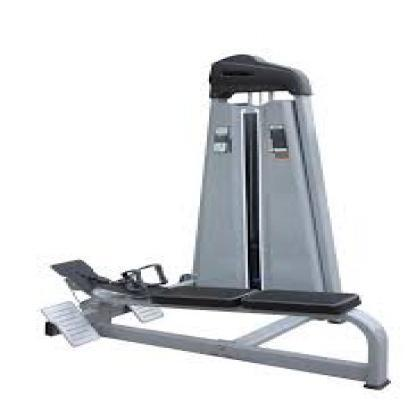Seated Cable Rows: (35, 48, 398, 394)
